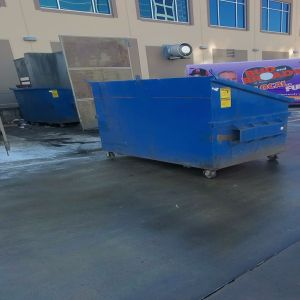Dumpster: (90, 82, 295, 180)
